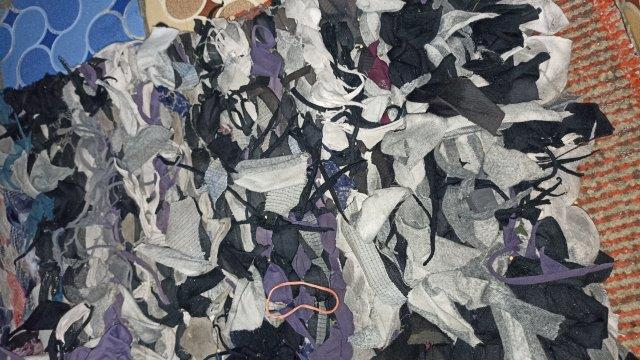karet: (266, 281, 339, 319)
